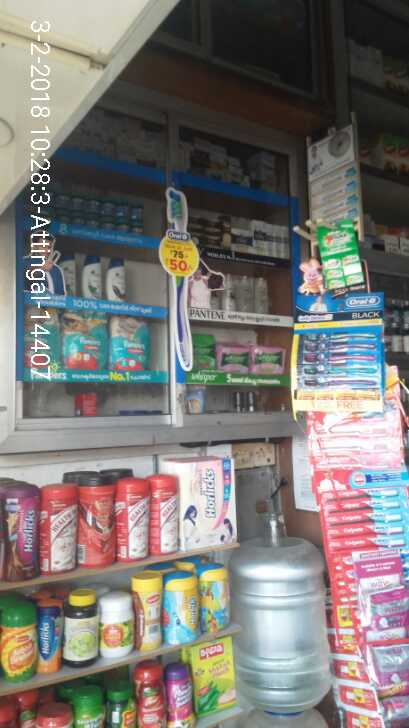oralcare: (289, 287, 386, 407)
vicks: (51, 193, 144, 228)
